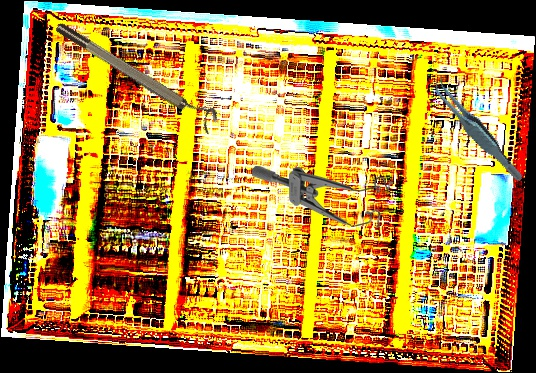Fixation Ring: (53, 12, 222, 135)
Speculum: (251, 165, 394, 229)
Tissue Forceps: (430, 63, 524, 196)
